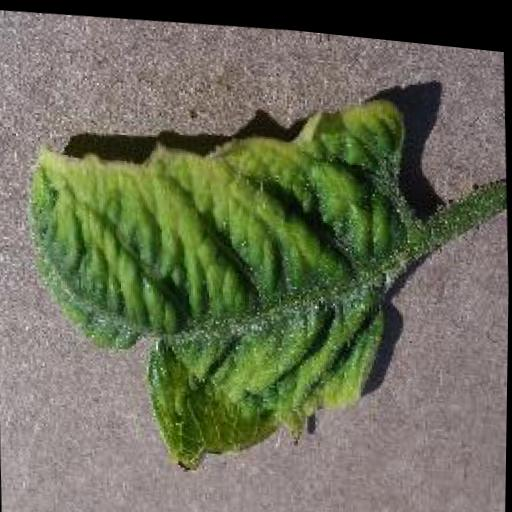Yellow Leaf Curl Virus: (16, 59, 423, 491)
